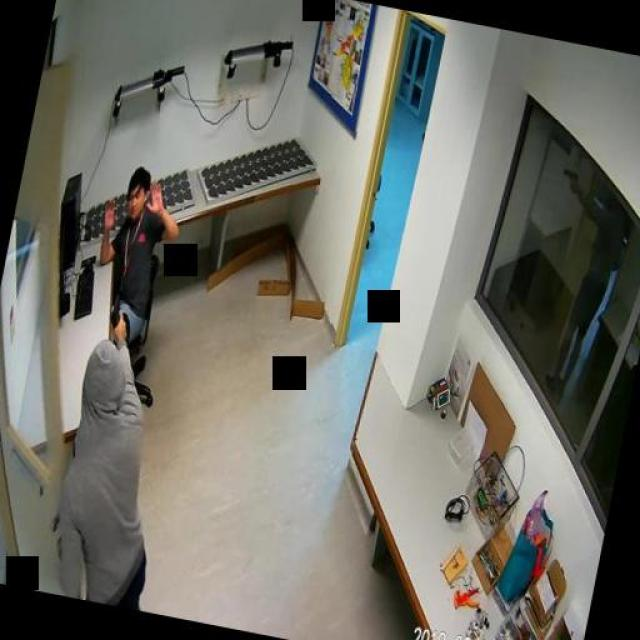gun: (105, 289, 134, 339)
